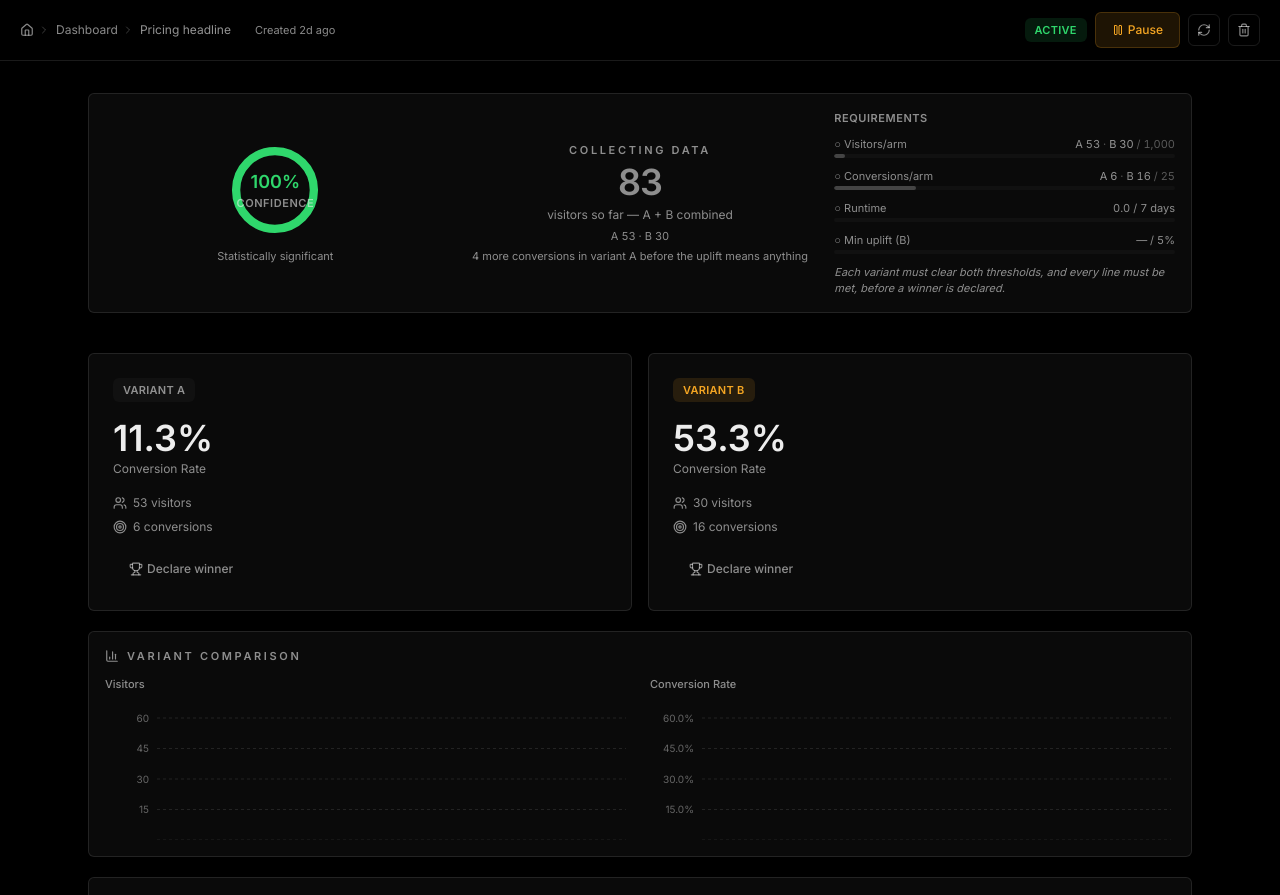
Test case: Manuelles Winner-Override › schaltet die gewählte Variante per PATCH in einem Schritt live und schliesst das Confirm
# B hat die höhere CR (53 % vs 11 %) → neutrales Confirm ohne Warnung.
Click the button "Declare winner" below "53.3%".
click(741, 569)  # box left=673, top=552, right=809, bottom=586
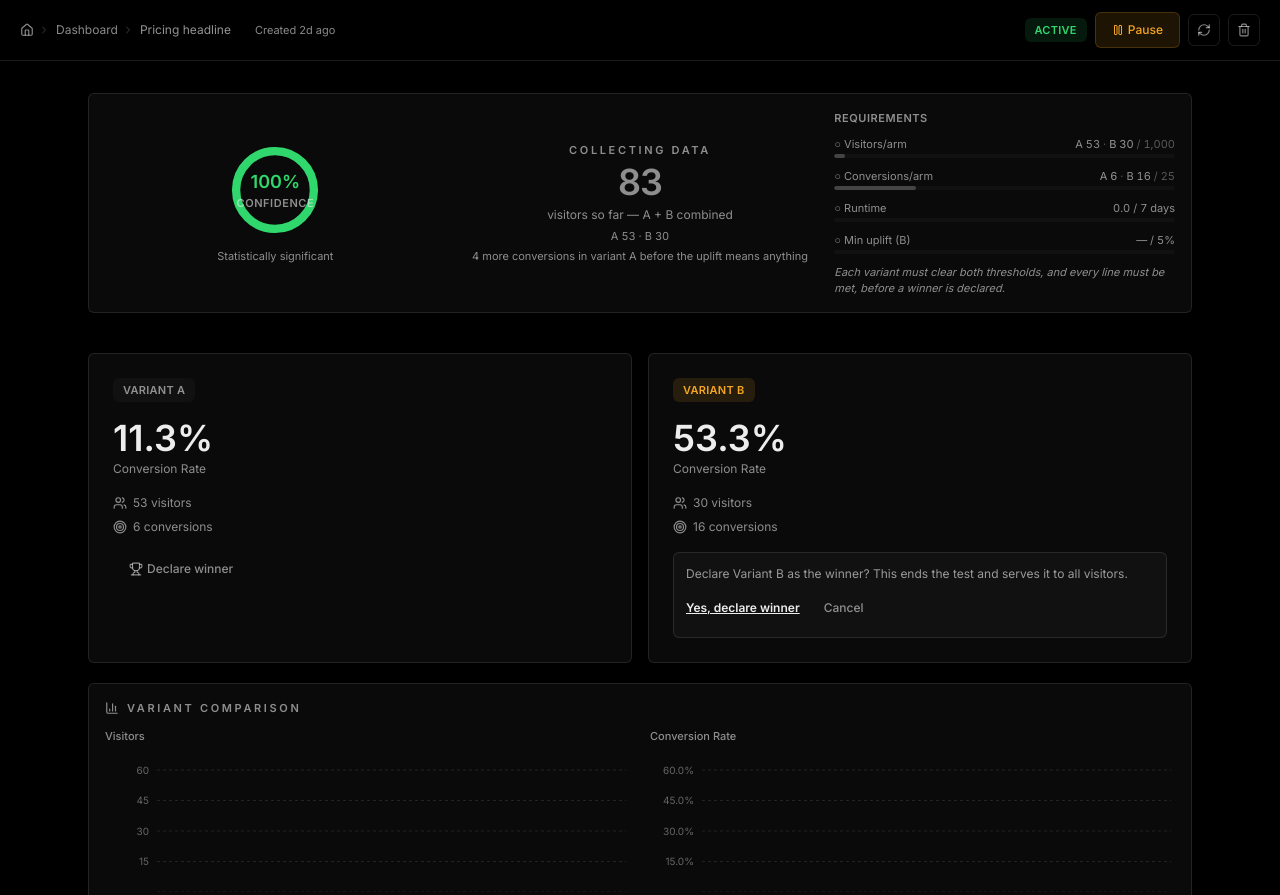
Result: the text "Declare Variant B as the winner?" is shown at left=686, top=566, right=1128, bottom=581
Click the button "Yes, declare winner".
click(743, 608)  # box left=686, top=599, right=800, bottom=617
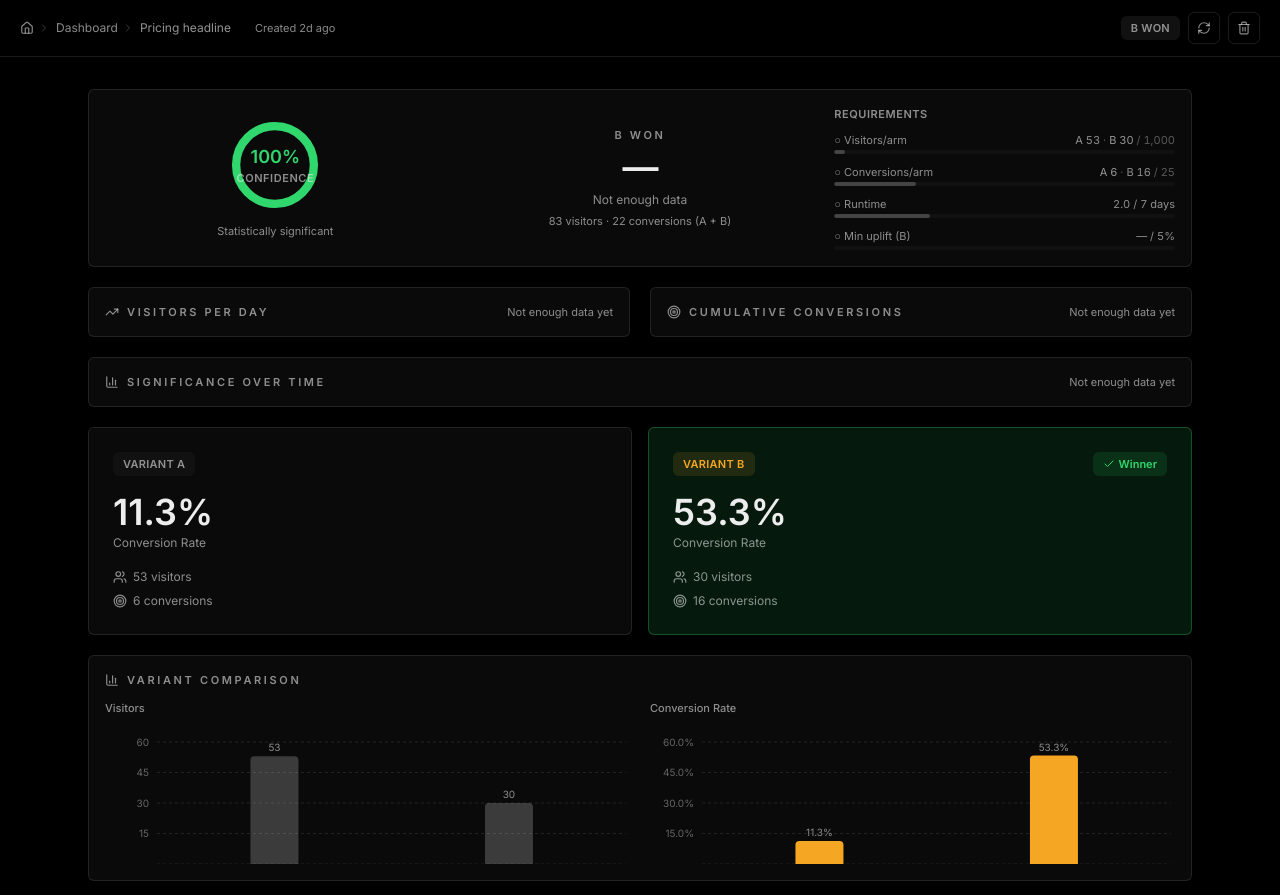
Result: the button "Yes, declare winner" is gone
Result: the button "Declare winner" is gone
